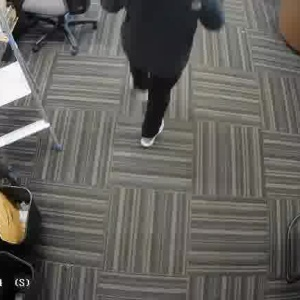person: (106, 0, 221, 148)
